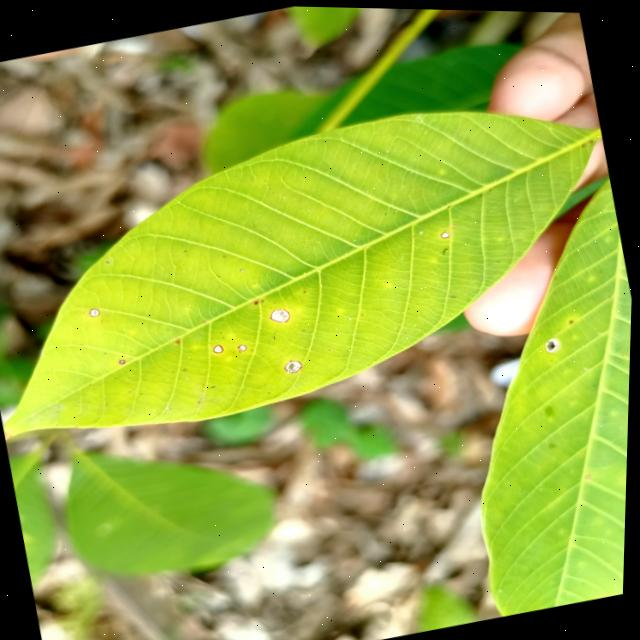Colletotrichum: (271, 304, 293, 322), (284, 355, 305, 372), (214, 341, 225, 352), (91, 306, 102, 316), (238, 341, 250, 350), (441, 227, 451, 235), (121, 358, 128, 363)
Leaf-Blight: (6, 426, 17, 449)
